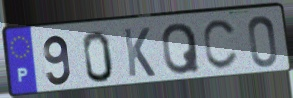0: (80, 29, 116, 85), (246, 14, 280, 70)
9: (42, 34, 72, 87)
C: (201, 17, 240, 73)
K: (121, 26, 158, 79)
Q: (160, 21, 202, 77)
